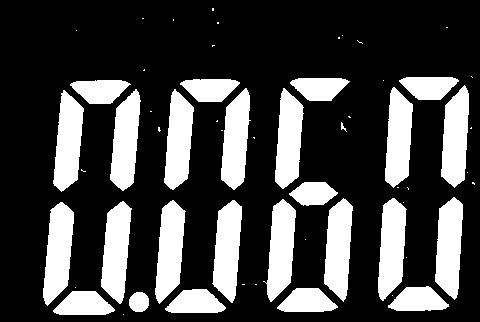0: (42, 78, 144, 320), (374, 70, 472, 317), (155, 79, 252, 317)
6: (264, 73, 358, 313)
dot: (129, 289, 151, 317)
